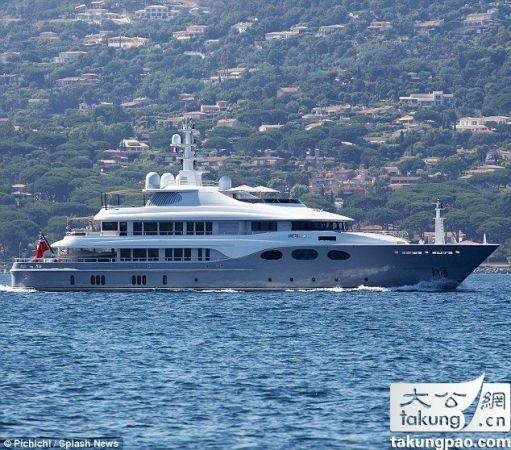yacht: (14, 155, 480, 291)
